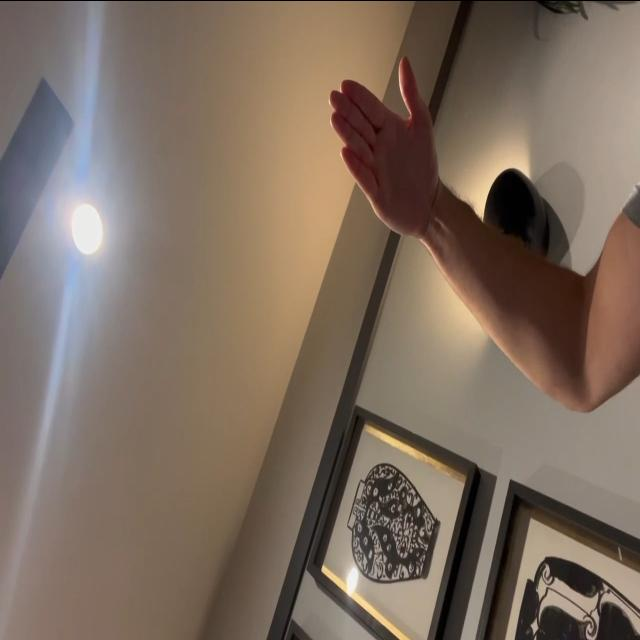Paper: (326, 49, 444, 240)
